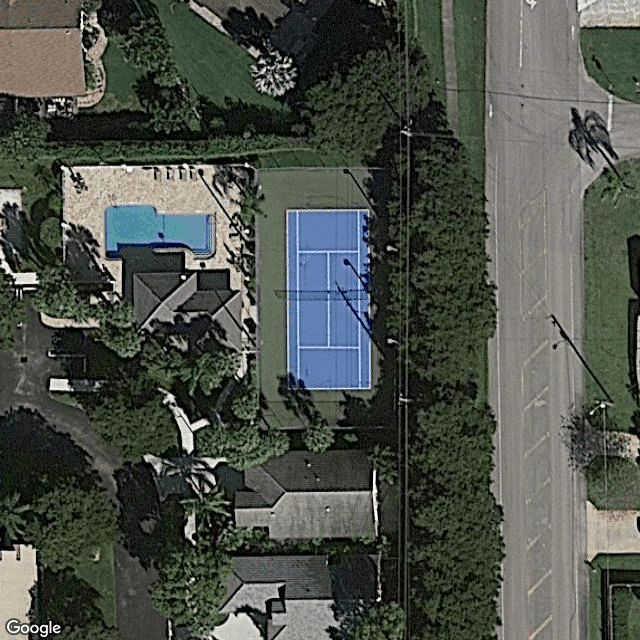Court: (283, 207, 372, 391)
